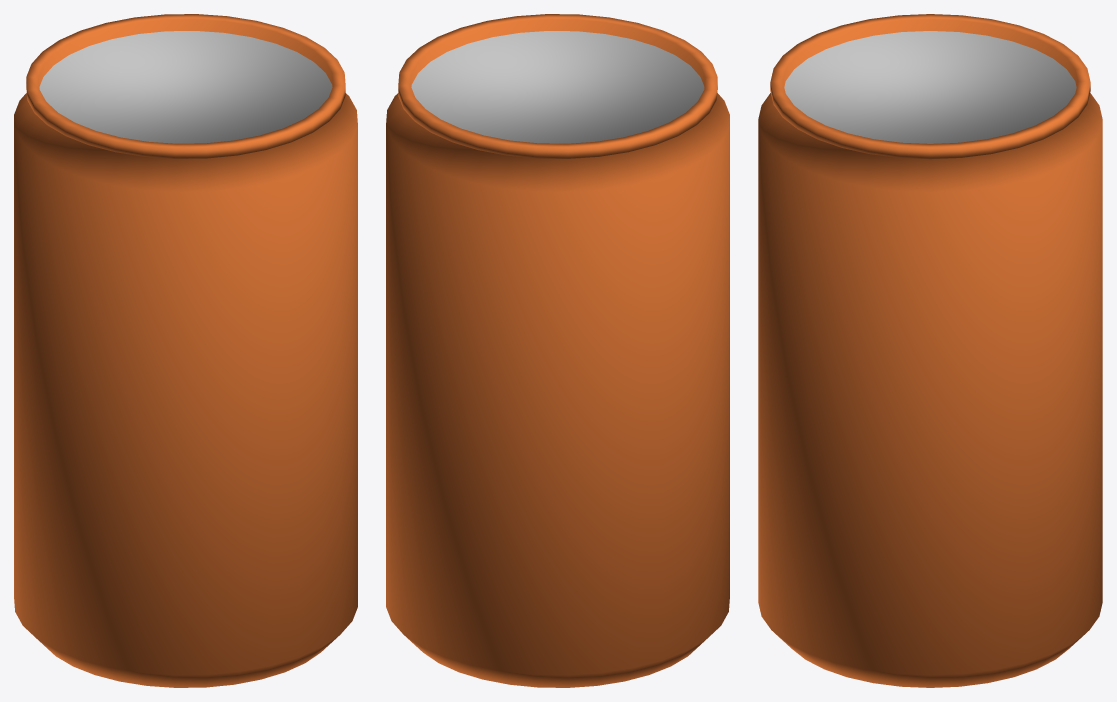
Rendered from déchets1.fbx.
3 renders of one model, left to right at view 1: azimuth 30°, elevation 25°; view 2: azimuth 150°, elevation 25°; view 3: azimuth 270°, elevation 25°, orthographic.
Visible parts, largest first — view 1: 02 Déchet 01; view 2: 02 Déchet 01; view 3: 02 Déchet 01.
Part boxes in pixels (x1,y1,x2,y2): 02 Déchet 01: (14,14,357,687); 02 Déchet 01: (386,14,729,687); 02 Déchet 01: (758,14,1102,687).
Bounding box in the file's own units: 2 × 3.48 × 2.
